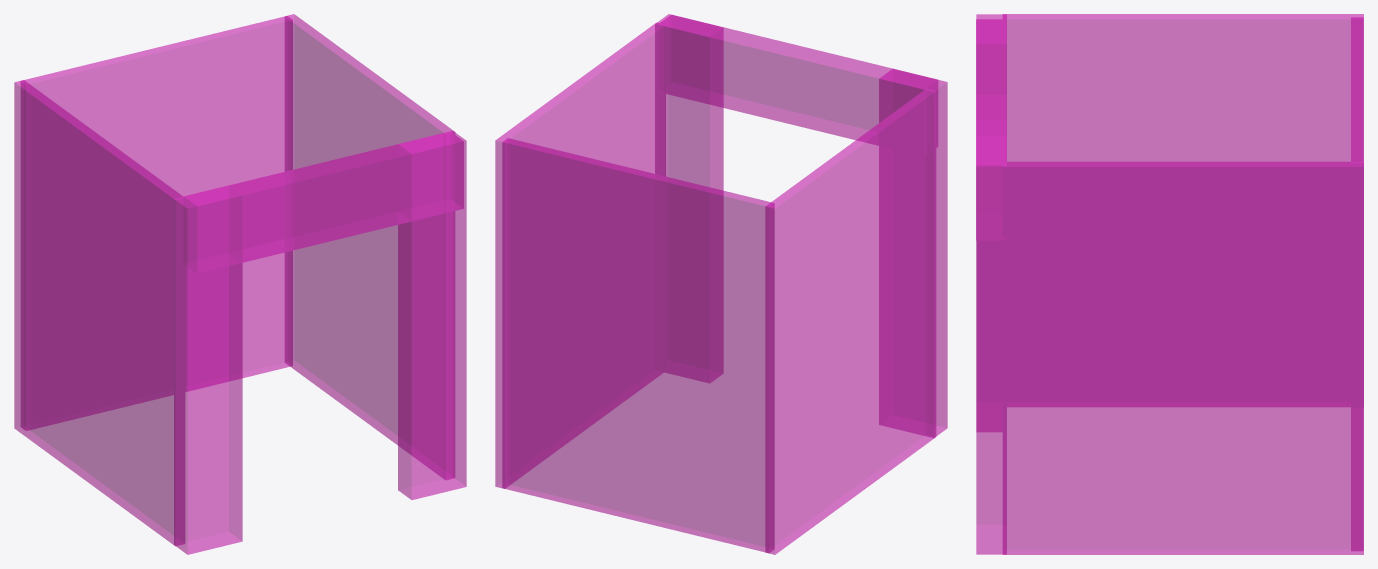
File: SM_Bld_Elevator_01_Collision.fbx
The picture shows the model from 3 angles, left to right: view 1: azimuth 30°, elevation 25°; view 2: azimuth 150°, elevation 25°; view 3: azimuth 270°, elevation 25°; orthographic projection. The views are drawn at different scales.
Visible parts, largest first — view 1: SM_Bld_Elevator_01_Collision; view 2: SM_Bld_Elevator_01_Collision; view 3: SM_Bld_Elevator_01_Collision.
Part boxes in pixels (x1,y1,x2,y2): SM_Bld_Elevator_01_Collision: [14, 14, 466, 554]; SM_Bld_Elevator_01_Collision: [495, 14, 947, 554]; SM_Bld_Elevator_01_Collision: [976, 14, 1363, 554].
Size of the model in its own units: 255 by 301 by 273.
